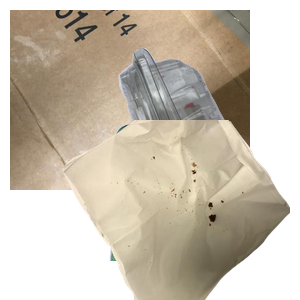cardboard: (10, 10, 250, 190)
glass: (107, 120, 278, 300)
plastic: (71, 45, 300, 225)
trash: (60, 120, 300, 300)
